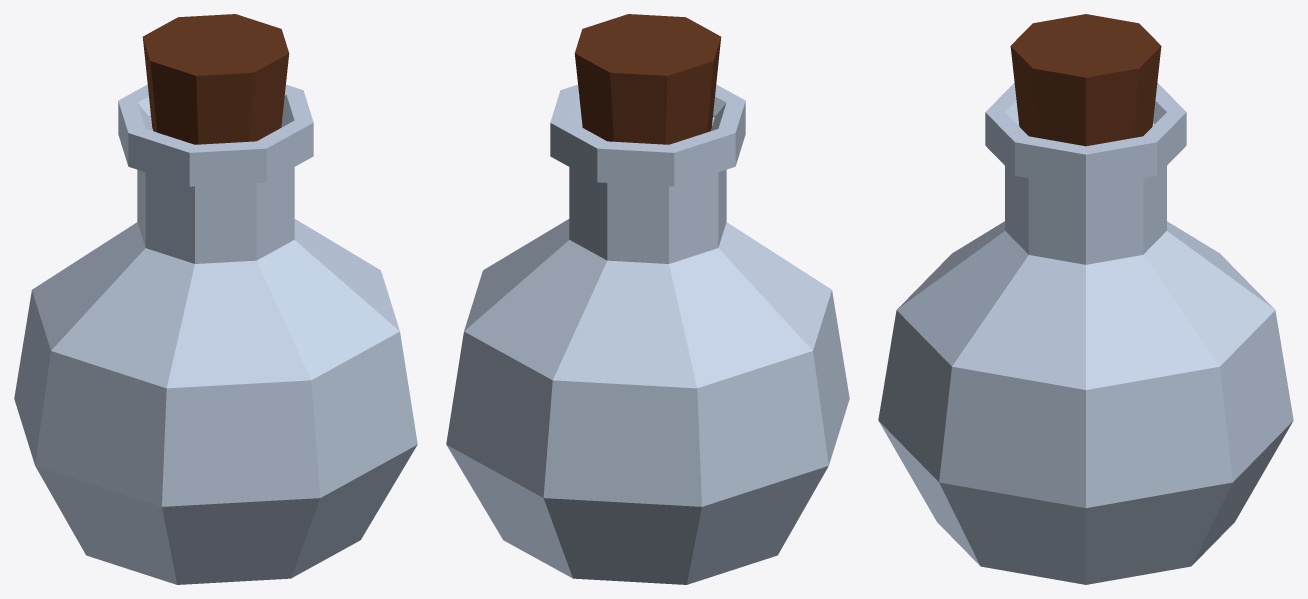
The model's file is GreaterHealthPotionModel.glb.
The picture shows the model from 3 angles, left to right: view 1: azimuth 30°, elevation 25°; view 2: azimuth 150°, elevation 25°; view 3: azimuth 270°, elevation 25°; orthographic projection.
Parts seen in each view (by area): view 1: JarOutside; view 2: JarOutside; view 3: JarOutside.
Boxes of the visible parts, x1,y1,x2,y2 form: JarOutside: (14, 14, 417, 584); JarOutside: (446, 14, 849, 584); JarOutside: (878, 14, 1293, 584).
Size of the model in its own units: 0.9205 by 1.16 by 0.9205.
